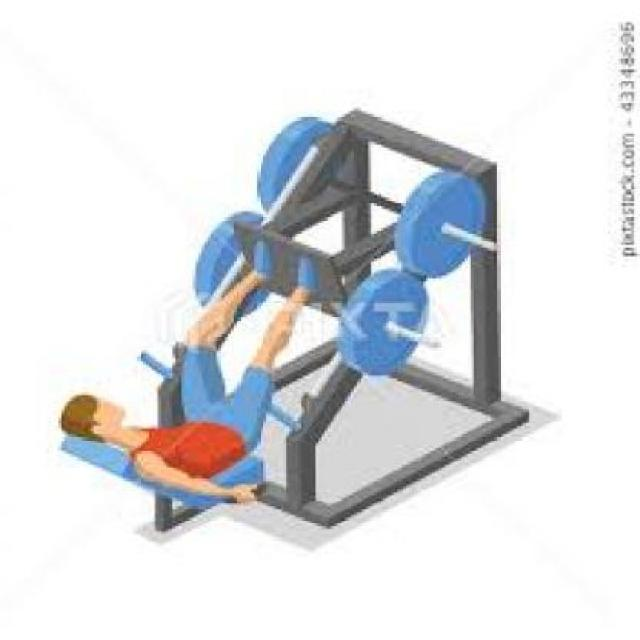leg press: (45, 95, 543, 557)
